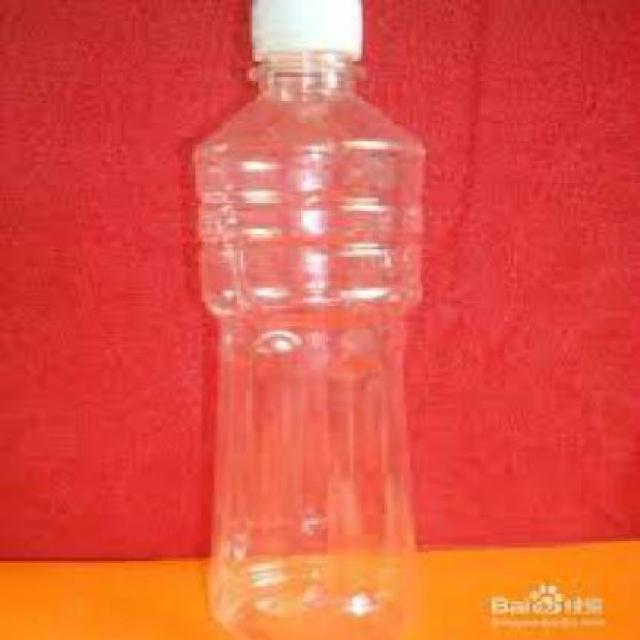plastic: (189, 0, 426, 638), (245, 0, 360, 60)
